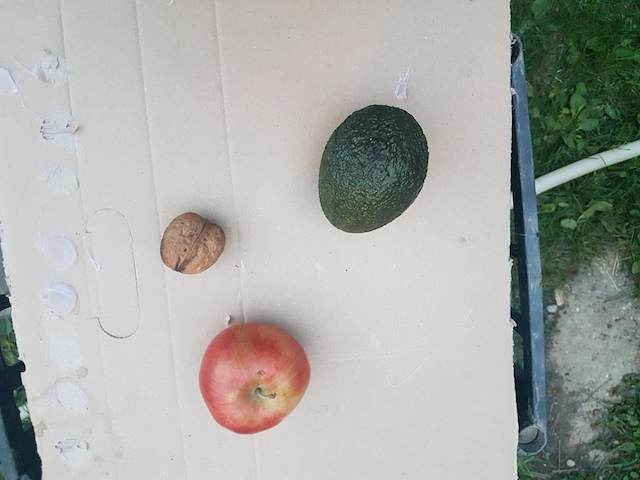apple: (198, 323, 313, 437)
avocado: (319, 105, 433, 236)
nut: (157, 210, 226, 278)
